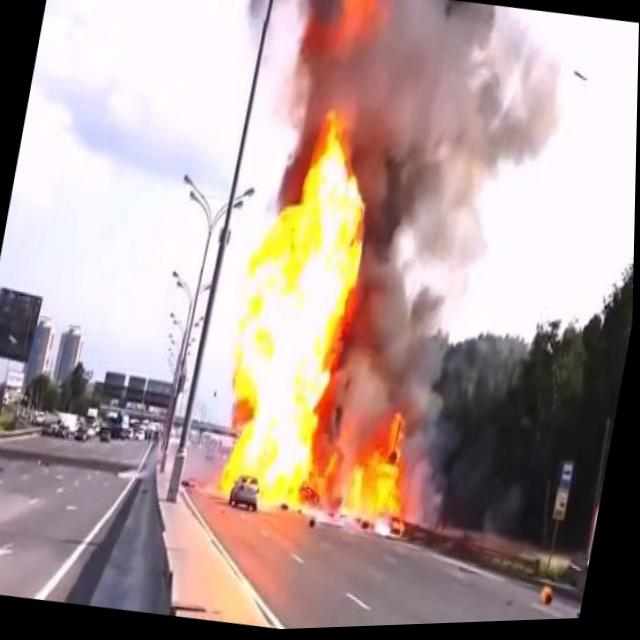fire: (207, 109, 387, 527), (326, 414, 425, 543)
